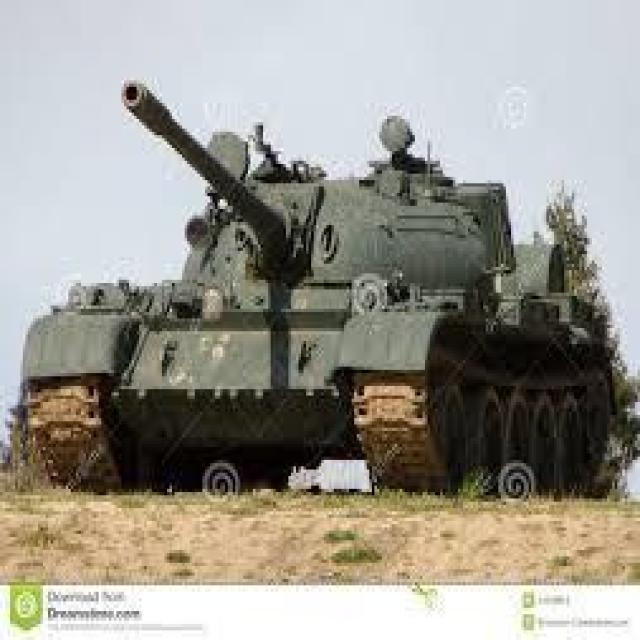Tanks: (14, 74, 613, 489)
